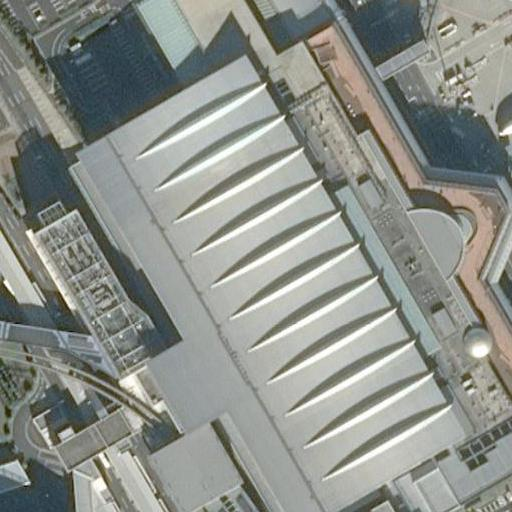Aircraft: (490, 23, 512, 149), (389, 0, 512, 7)
